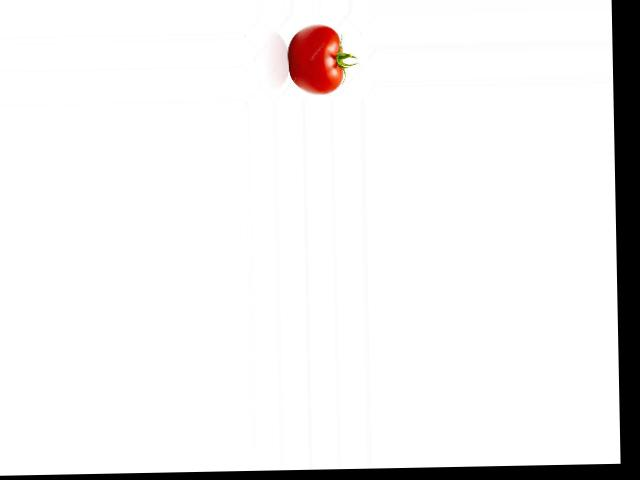tomato: (287, 23, 343, 95)
